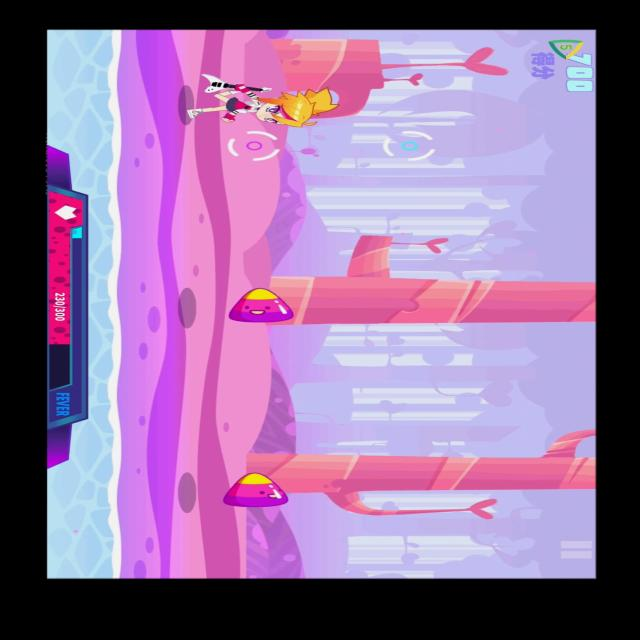jian: (212, 276, 306, 336), (211, 460, 293, 512)
